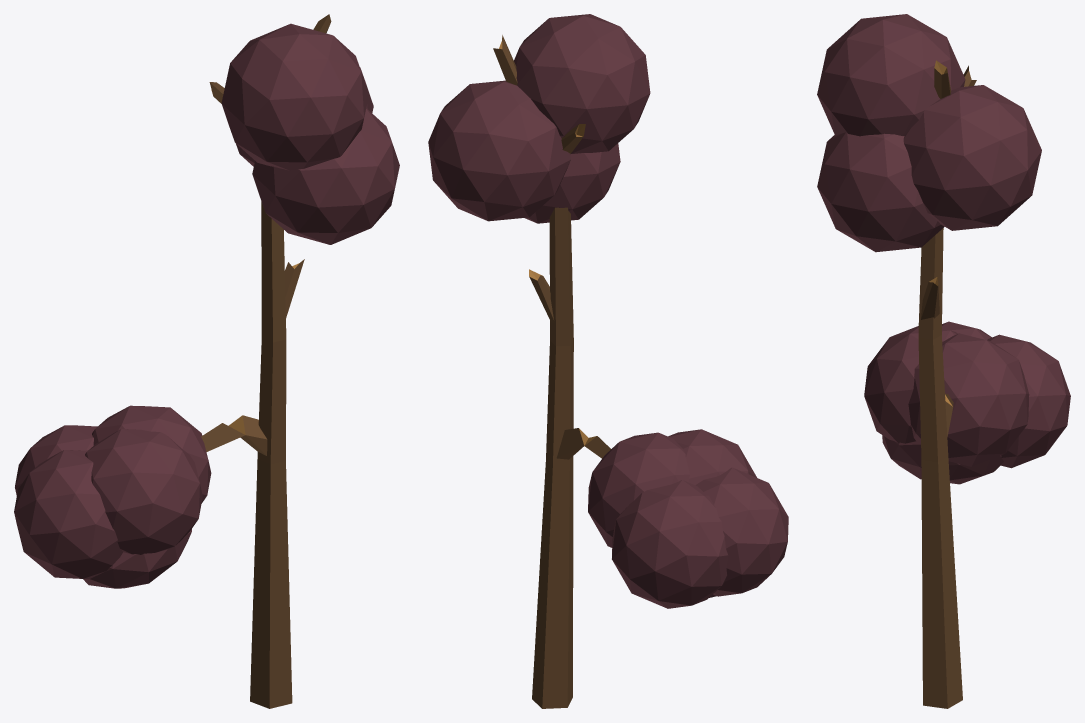
The model's file is tree-torn-b.fbx.
3 views of the same model, side by side, from view 1: azimuth 30°, elevation 25°; view 2: azimuth 150°, elevation 25°; view 3: azimuth 270°, elevation 25° (orthographic). The views are drawn at different scales.
Parts seen in each view (by area): view 1: tree-torn-b; view 2: tree-torn-b; view 3: tree-torn-b.
Part boxes in pixels (x1,y1,x2,y2): tree-torn-b: [14, 14, 399, 708]; tree-torn-b: [428, 14, 788, 708]; tree-torn-b: [817, 14, 1070, 708].
Bounding box in the file's own units: 4.91 × 9.31 × 3.15.
